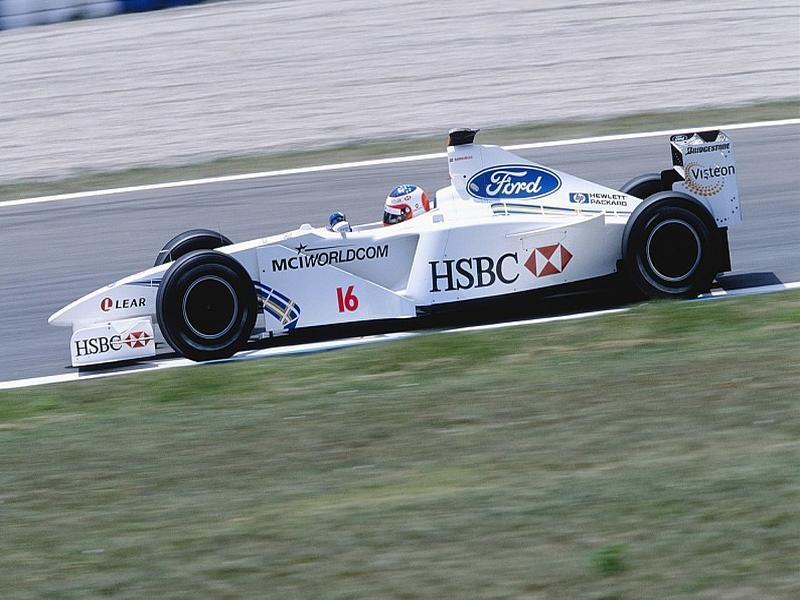f1: (44, 153, 800, 372)
